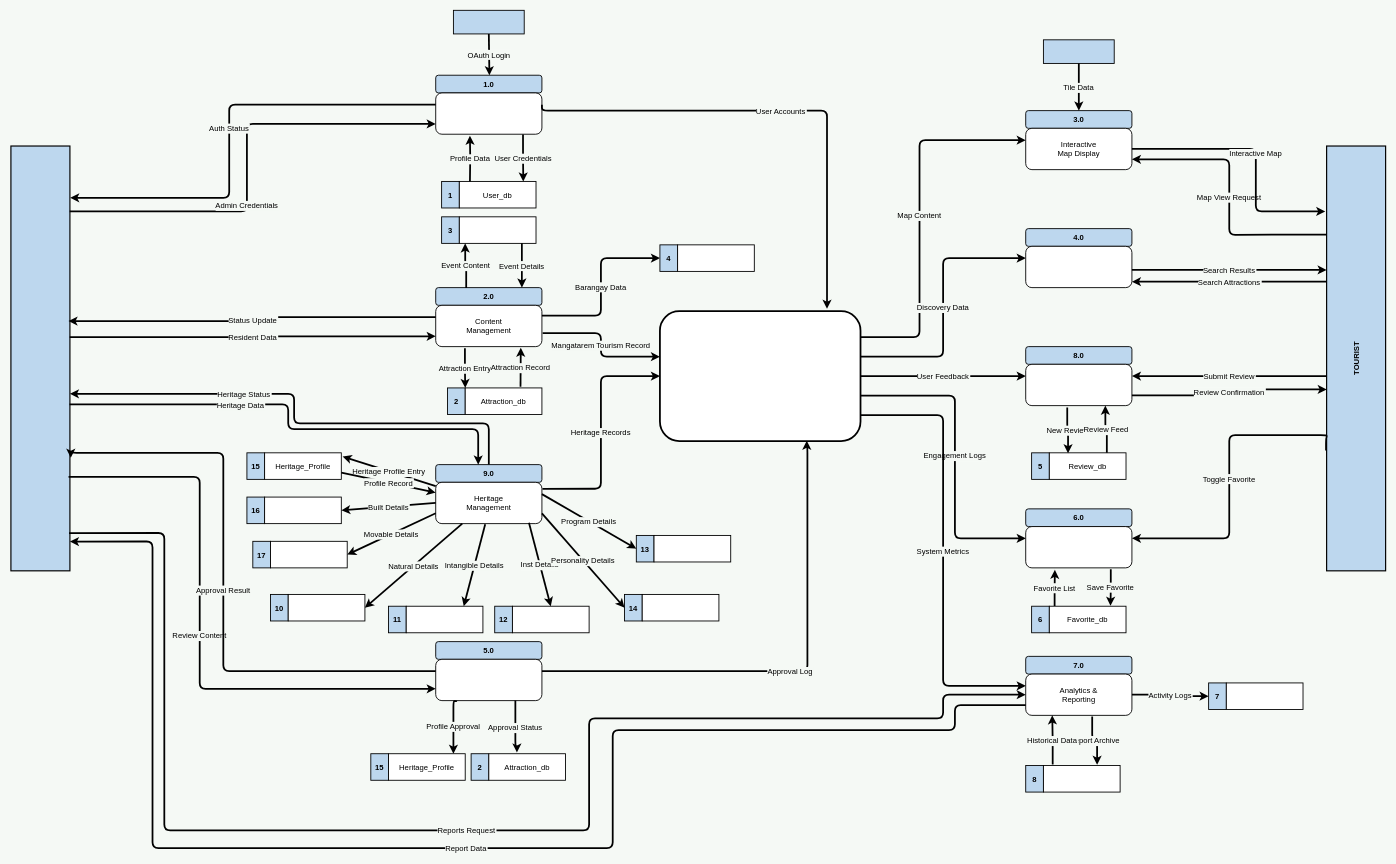
Some shapes in this 1396 by 864 pixel diagram are drawn without their labels. The centre of each missing label's shape, as x and y in pixels:
ADMIN: point 40,358
Admin Approval: point 488,680
Barangay_db: point 715,258
Built_Heritage: point 302,510
Content Discovery: point 1078,267
Cultural_Inst: point 550,619
Event_db: point 497,230
Favorite Management: point 1078,547
Google OAuth: point 488,22
Intangible_Heritage: point 444,619
Interactive Digital Cultural Map & Tourism Information System: point 760,376
LGU_Program: point 692,548
Mapbox API: point 1078,51
Movable_Heritage: point 308,554
Natural_Heritage: point 326,607
PageView_db: point 1264,696
Personality: point 680,607
Reports_db: point 1081,778
Review & Feedback: point 1078,385
User Authentication: point 488,113
